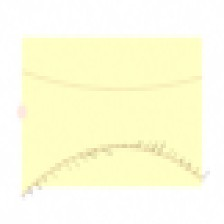pinguecula_lesion: (14, 87, 66, 128)
